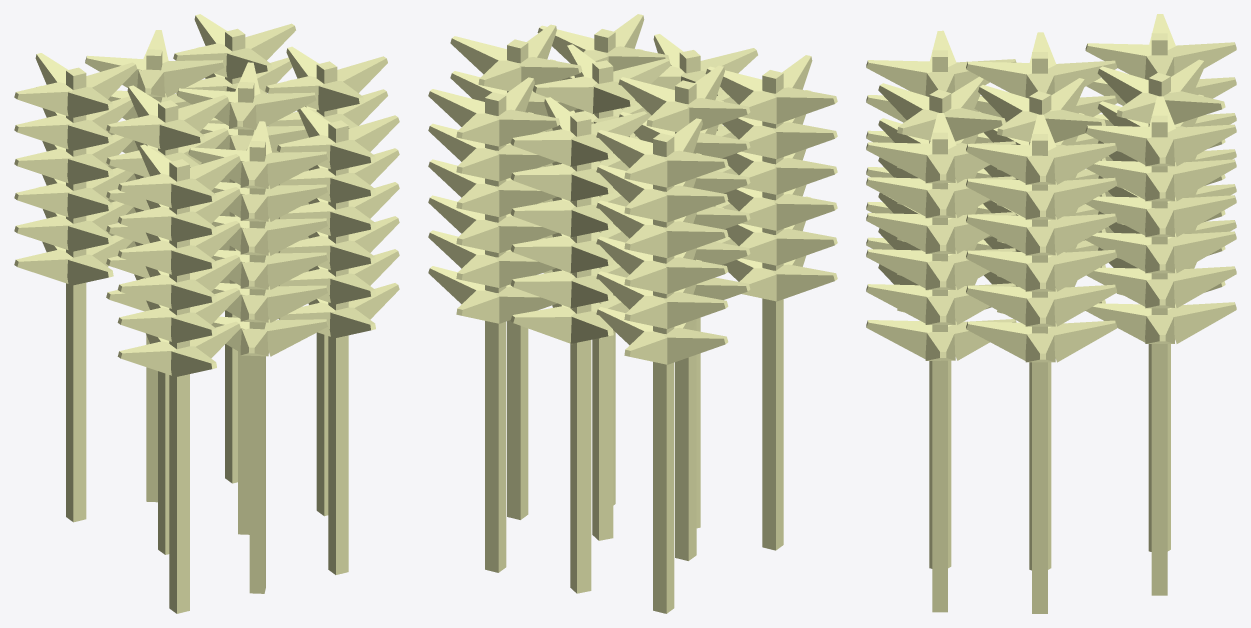
The model's file is wheat.glb.
The picture shows the model from 3 angles, left to right: view 1: azimuth 30°, elevation 25°; view 2: azimuth 150°, elevation 25°; view 3: azimuth 270°, elevation 25°; orthographic projection. The views are drawn at different scales.
Visible parts, largest first — view 1: Cube; view 2: Cube; view 3: Cube.
Part boxes in pixels (x1,y1,x2,y2): Cube: [14, 14, 399, 613]; Cube: [428, 14, 837, 613]; Cube: [866, 14, 1236, 613].
Bounding box in the file's own units: 2.36 × 3.3 × 2.26.
